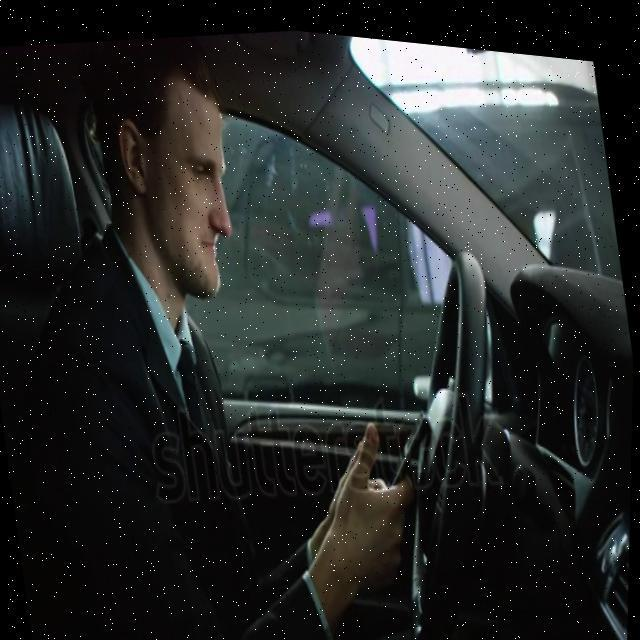PhoneCall: (381, 401, 445, 498)
